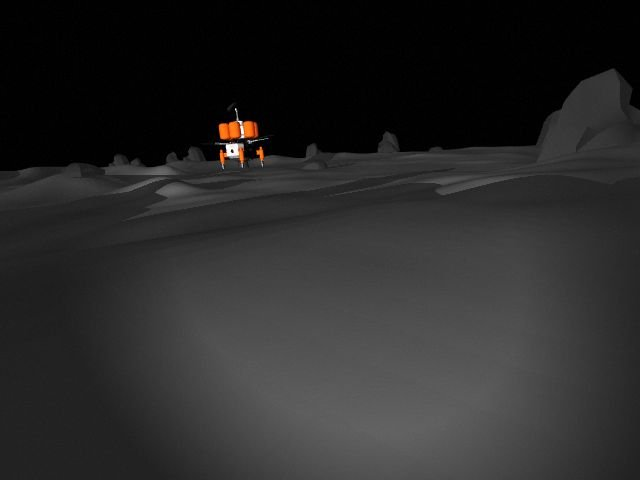homebase: (190, 98, 284, 169)
